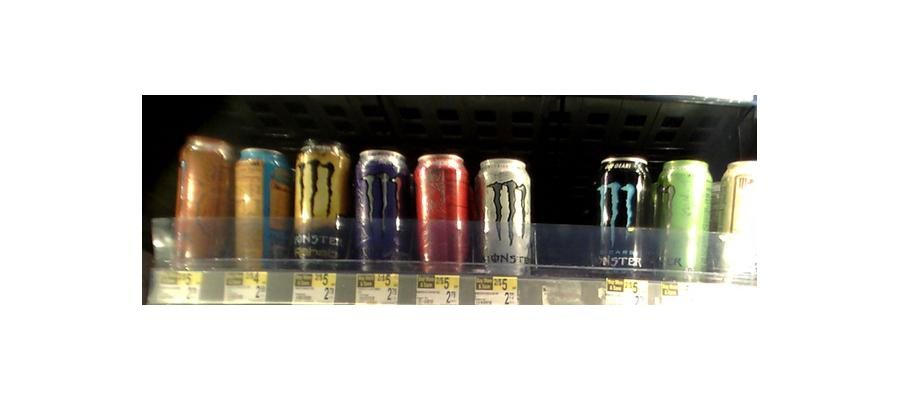bottle: (175, 132, 231, 270), (596, 153, 658, 274), (473, 156, 532, 280), (291, 141, 347, 271), (352, 150, 410, 271), (657, 158, 712, 281), (414, 153, 470, 271), (234, 146, 287, 266), (720, 151, 764, 280)
